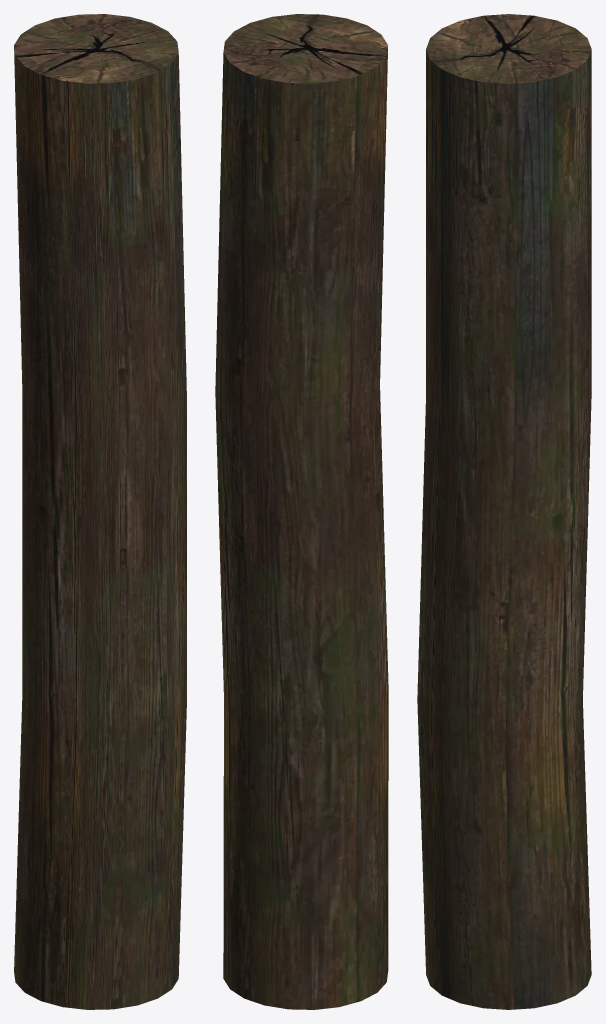
The picture shows the model from 3 angles, left to right: view 1: azimuth 30°, elevation 25°; view 2: azimuth 150°, elevation 25°; view 3: azimuth 270°, elevation 25°; orthographic projection.
Visible parts, largest first — view 1: SM_BB_T1_Beam_Thick_Large_Vertical_LOD0; view 2: SM_BB_T1_Beam_Thick_Large_Vertical_LOD0; view 3: SM_BB_T1_Beam_Thick_Large_Vertical_LOD0.
Boxes of the visible parts, x1,y1,x2,y2 form: SM_BB_T1_Beam_Thick_Large_Vertical_LOD0: [14, 14, 186, 1009]; SM_BB_T1_Beam_Thick_Large_Vertical_LOD0: [215, 14, 388, 1009]; SM_BB_T1_Beam_Thick_Large_Vertical_LOD0: [417, 14, 591, 1009].
Bounding box in the file's own units: 0.5154 × 3.01 × 0.5133.
1 material, 1 textured.
